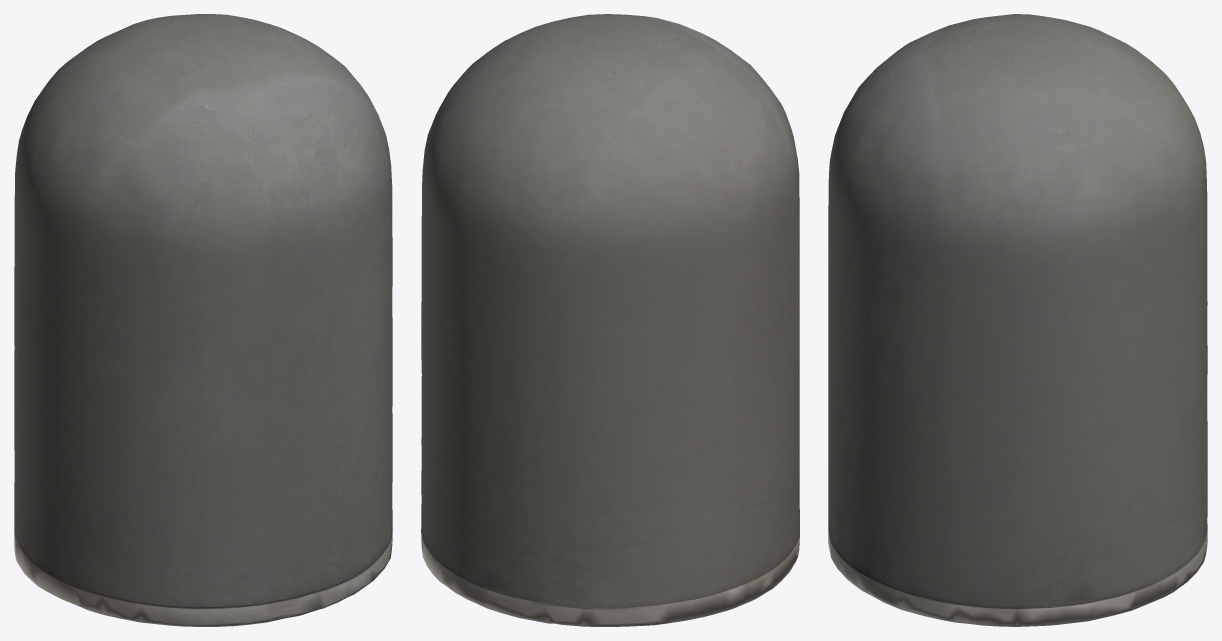
File: Glass_Dome_0727130025_texture.fbx
3 views of the same model, side by side, from view 1: azimuth 30°, elevation 25°; view 2: azimuth 150°, elevation 25°; view 3: azimuth 270°, elevation 25° (orthographic).
Visible parts, largest first — view 1: input; view 2: input; view 3: input.
Part boxes in pixels (x1,y1,x2,y2): input: (14,14,392,626); input: (421,14,799,626); input: (828,14,1207,626).
Bounding box in the file's own units: 135 × 200 × 135.
Materials: 1 (1 with a texture image).
